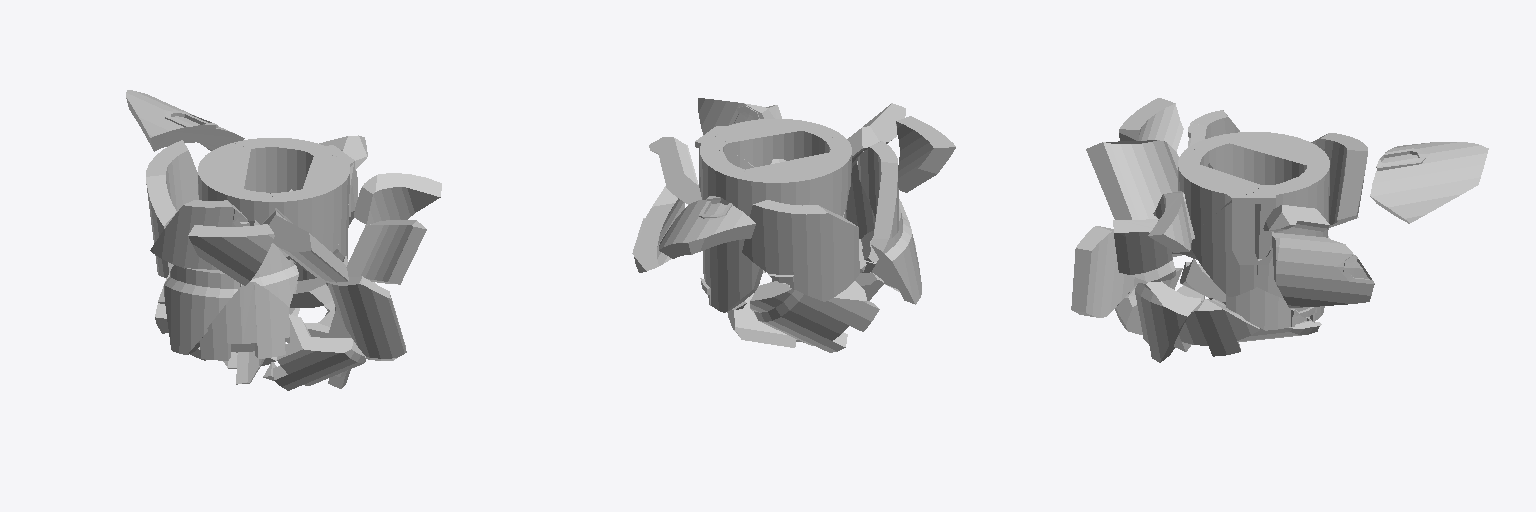
Rendered from destruction_tower_000046.obj.
The picture shows the model from 3 angles: view 1: azimuth 30°, elevation 25°; view 2: azimuth 150°, elevation 25°; view 3: azimuth 270°, elevation 25°; orthographic projection.
Visible parts, largest first — view 1: tower.001_cell.006_Mesh.006, tower.001_cell.028_Mesh.028, tower.001_cell.005_Mesh.005, tower.001_cell.021_Mesh.021, tower.001_cell.011_Mesh.011, tower.001_cell_Mesh, tower.001_cell.003_Mesh.003, tower.001_cell.025_Mesh.025, tower.001_cell.002_Mesh.002, tower.001_cell.010_Mesh.010, tower.001_cell.009_Mesh.009, tower.001_cell.017_Mesh.017 (+10 smaller); view 2: tower.001_cell.003_Mesh.003, tower.001_cell.007_Mesh.007, tower.001_cell.017_Mesh.017, tower.001_cell.015_Mesh.015, tower.001_cell.028_Mesh.028, tower.001_cell.025_Mesh.025, tower.001_cell.002_Mesh.002, tower.001_cell.009_Mesh.009, tower.001_cell.005_Mesh.005, tower.001_cell.012_Mesh.012, tower.001_cell.016_Mesh.016, tower.001_cell.010_Mesh.010 (+4 smaller); view 3: tower.001_cell.025_Mesh.025, tower.001_cell.012_Mesh.012, tower.001_cell.024_Mesh.024, tower.001_cell.020_Mesh.020, tower.001_cell.021_Mesh.021, tower.001_cell.015_Mesh.015, tower.001_cell.023_Mesh.023, tower.001_cell.028_Mesh.028, tower.001_cell.003_Mesh.003, tower.001_cell.030_Mesh.030, tower.001_cell_Mesh, tower.001_cell.017_Mesh.017 (+10 smaller).
Part boxes in pixels (x1,y1,x2,y2): tower.001_cell.006_Mesh.006: (198, 281, 289, 360); tower.001_cell.028_Mesh.028: (270, 156, 354, 252); tower.001_cell.005_Mesh.005: (164, 265, 239, 354); tower.001_cell.021_Mesh.021: (326, 276, 406, 360); tower.001_cell.011_Mesh.011: (273, 314, 365, 390); tower.001_cell_Mesh: (346, 220, 426, 284); tower.001_cell.003_Mesh.003: (146, 140, 198, 277); tower.001_cell.025_Mesh.025: (126, 90, 244, 151); tower.001_cell.002_Mesh.002: (188, 224, 274, 285); tower.001_cell.010_Mesh.010: (354, 173, 441, 224); tower.001_cell.009_Mesh.009: (150, 200, 249, 269); tower.001_cell.017_Mesh.017: (234, 138, 320, 192); tower.001_cell.003_Mesh.003: (742, 200, 859, 301); tower.001_cell.007_Mesh.007: (750, 281, 879, 352); tower.001_cell.017_Mesh.017: (700, 146, 762, 312); tower.001_cell.015_Mesh.015: (741, 152, 850, 216); tower.001_cell.028_Mesh.028: (716, 119, 839, 167); tower.001_cell.025_Mesh.025: (659, 196, 755, 258); tower.001_cell.002_Mesh.002: (896, 116, 955, 192); tower.001_cell.009_Mesh.009: (858, 141, 898, 239); tower.001_cell.005_Mesh.005: (870, 207, 921, 304); tower.001_cell.012_Mesh.012: (632, 186, 684, 272); tower.001_cell.016_Mesh.016: (649, 137, 701, 204); tower.001_cell.010_Mesh.010: (698, 98, 774, 134); tower.001_cell.025_Mesh.025: (1370, 142, 1488, 223); tower.001_cell.012_Mesh.012: (1272, 232, 1374, 307); tower.001_cell.024_Mesh.024: (1086, 140, 1178, 219); tower.001_cell.020_Mesh.020: (1191, 193, 1260, 296); tower.001_cell.021_Mesh.021: (1071, 226, 1140, 317); tower.001_cell.015_Mesh.015: (1230, 132, 1329, 184); tower.001_cell.023_Mesh.023: (1135, 280, 1204, 362); tower.001_cell.028_Mesh.028: (1178, 149, 1261, 233); tower.001_cell.003_Mesh.003: (1311, 133, 1367, 227); tower.001_cell.030_Mesh.030: (1174, 298, 1259, 356); tower.001_cell_Mesh: (1113, 219, 1175, 281); tower.001_cell.017_Mesh.017: (1282, 163, 1329, 322).
Bounding box in the file's own units: 82.86 × 61.37 × 117.